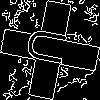U: (25, 25, 77, 70)
